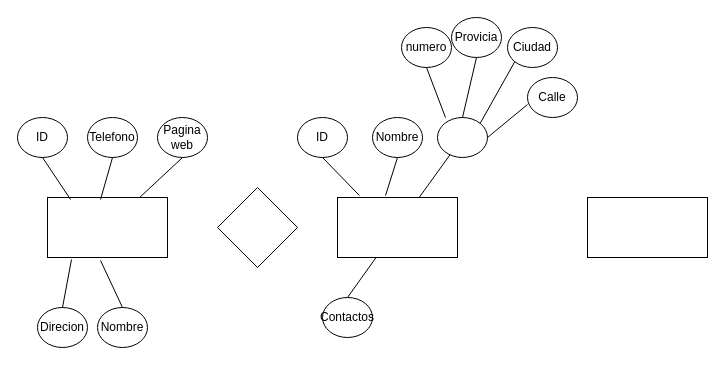
Some shapes in this 725 by 365 pixel diagram are drawn without their labels. The centre of each missing label's shape, as x and y in pixels:
"Cliente" goes at [647,227].
"Direccion" goes at [462,137].
"Producto" goes at [397,227].
"Proveedor" goes at [107,227].
"Tiene" goes at [257,227].
